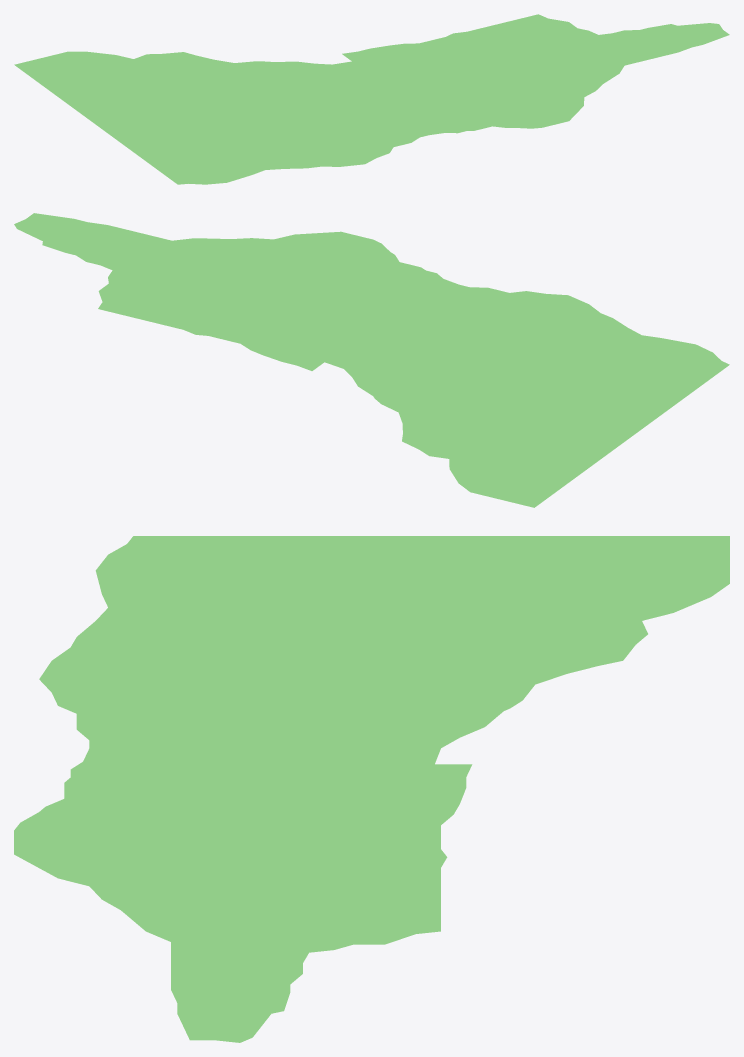
File: victoria.glb
The picture shows the model from 3 angles, top to bottom: view 1: azimuth 30°, elevation 25°; view 2: azimuth 150°, elevation 25°; view 3: azimuth 270°, elevation 25°; orthographic projection. The views are drawn at different scales.
Parts seen in each view (by area): view 1: Plane; view 2: Plane; view 3: Plane.
Boxes of the visible parts, x1,y1,x2,y2 form: Plane: (14,14,729,184); Plane: (14,213,729,507); Plane: (14,536,729,1042).
Size of the model in its own units: 97.03 by 2.53e-06 by 57.92.
